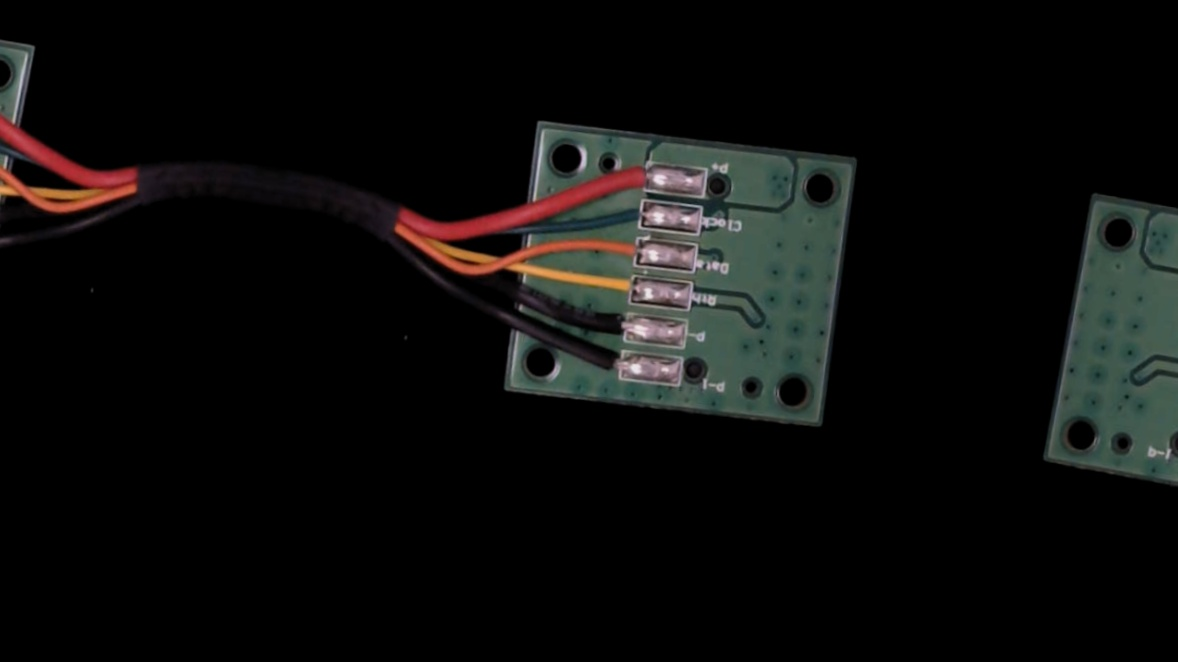Black: (586, 307, 645, 343)
Black1: (574, 343, 639, 380)
Green: (599, 193, 664, 231)
Orange: (588, 229, 657, 267)
Red: (609, 156, 669, 194)
Yellow: (585, 269, 651, 304)
